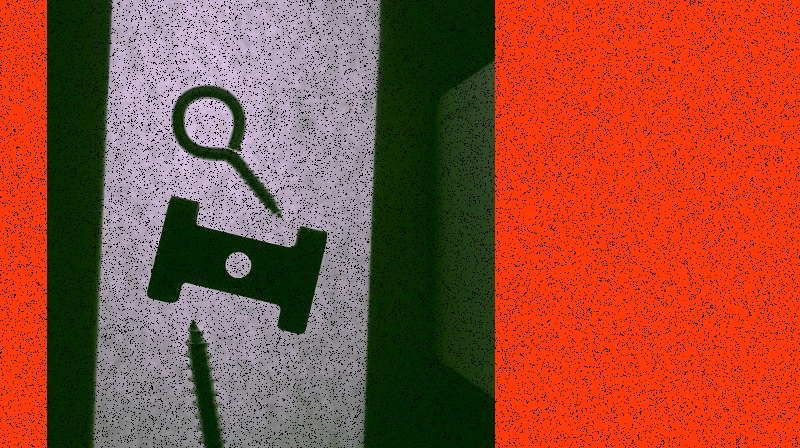O001: (169, 81, 286, 221)
O002: (146, 195, 327, 335)
S001: (183, 317, 247, 447)
